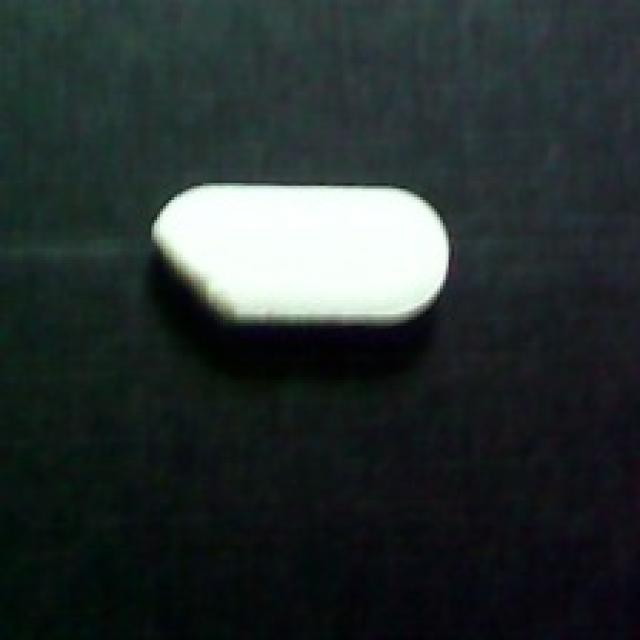defected: (146, 177, 460, 351)
